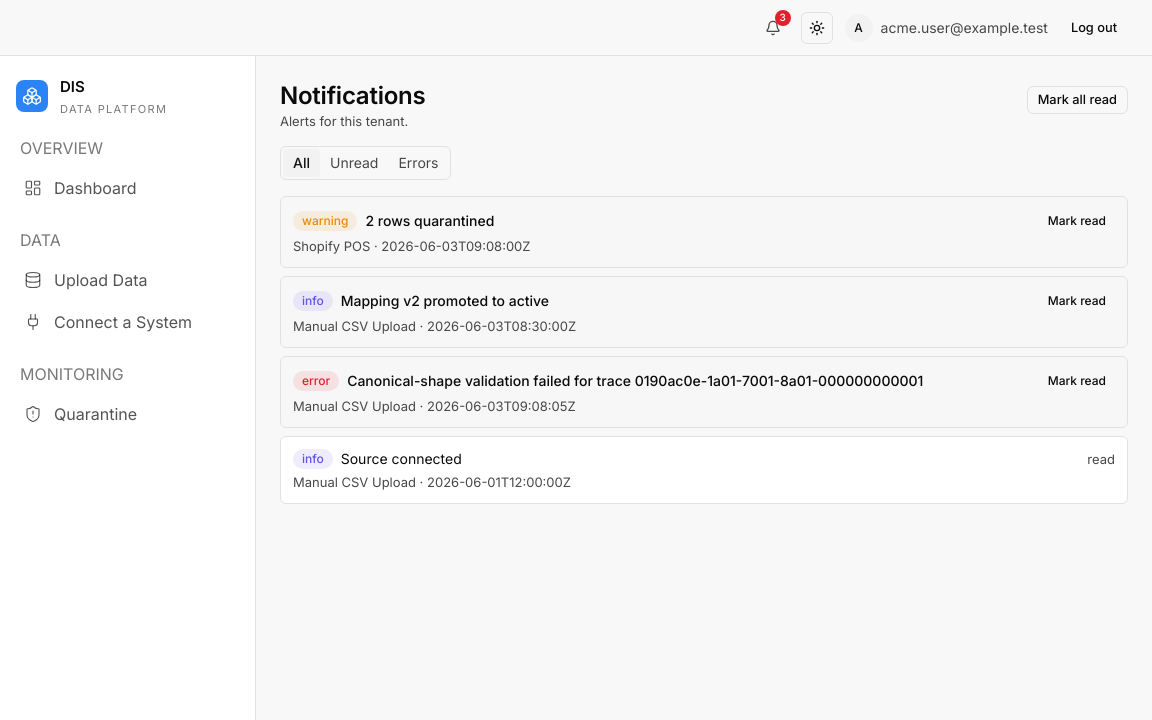
Notifications (tenant slice) › mark-all-read zeroes the bell and marks every row read
This screenshot has width=1152, height=720.
Expected: the heading "Notifications" is shown, left=280, top=80, right=426, bottom=112
Click the button "Mark all read" at (1077, 100), box left=1027, top=86, right=1128, bottom=114
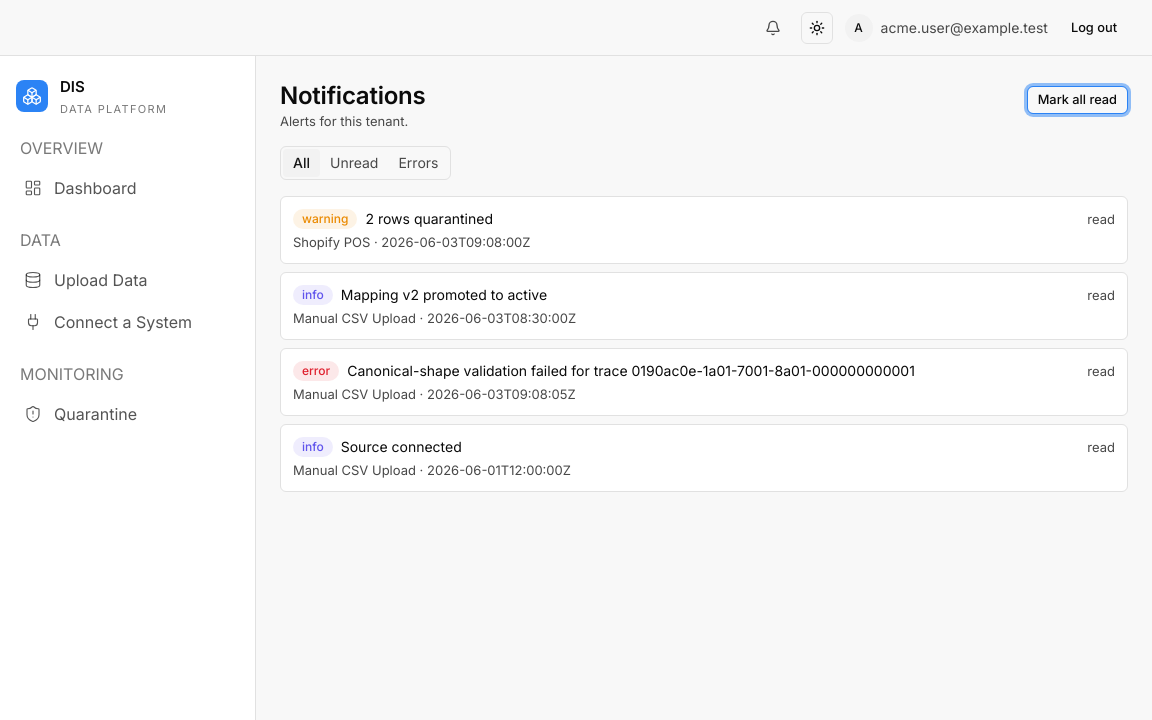
Expected: the link named "Notifications, 0 unread" is shown, left=765, top=20, right=781, bottom=36
